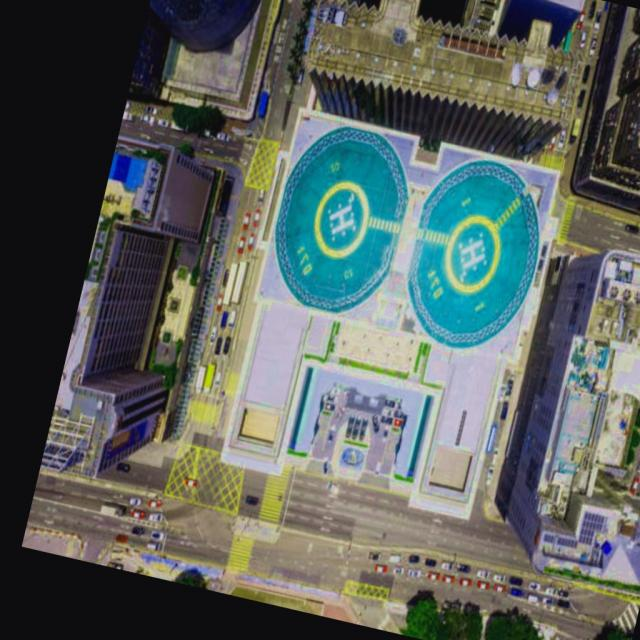helipad: (442, 212, 501, 294), (311, 180, 371, 260)
